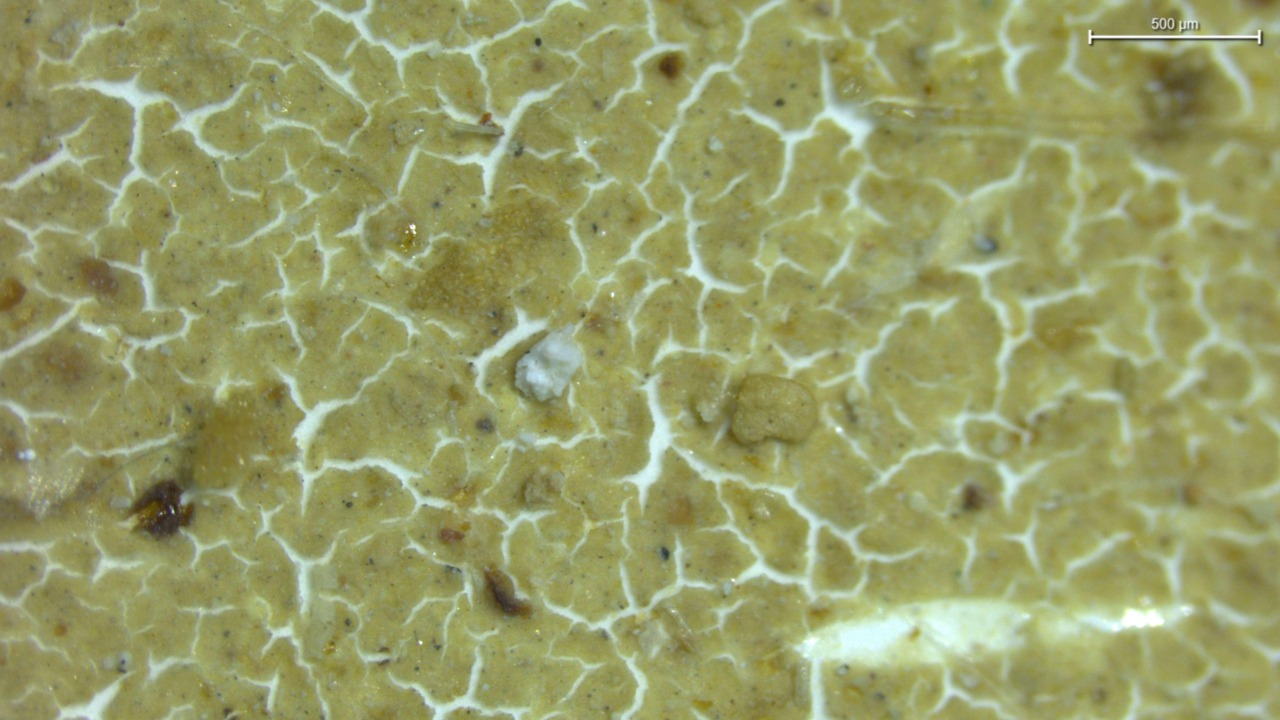microplastic_fragment: (727, 373, 818, 450), (513, 323, 583, 403)
